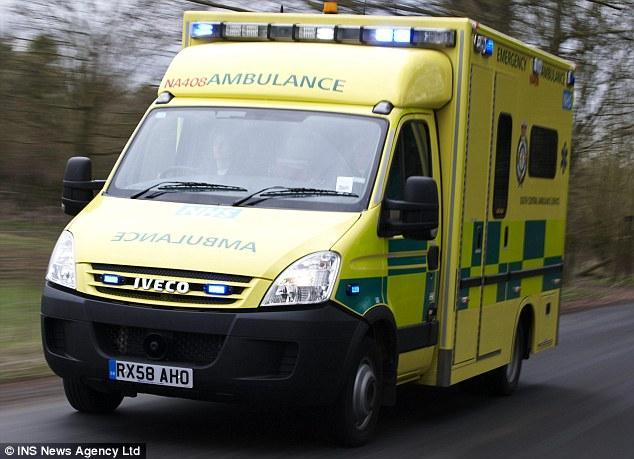Ambulance: (204, 62, 350, 96), (109, 226, 260, 257)
